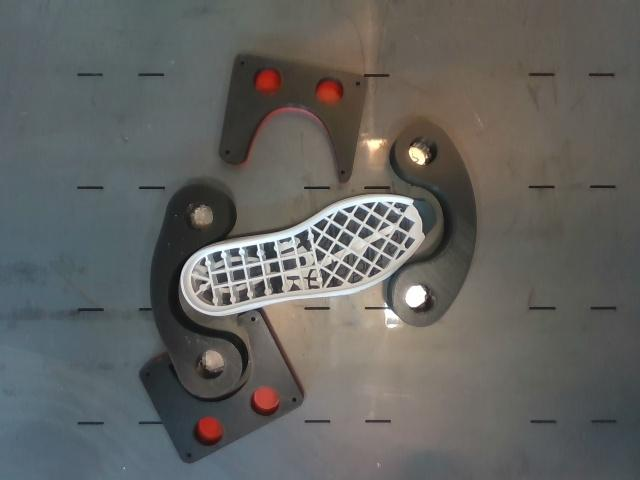shoes: (182, 196, 435, 312)
